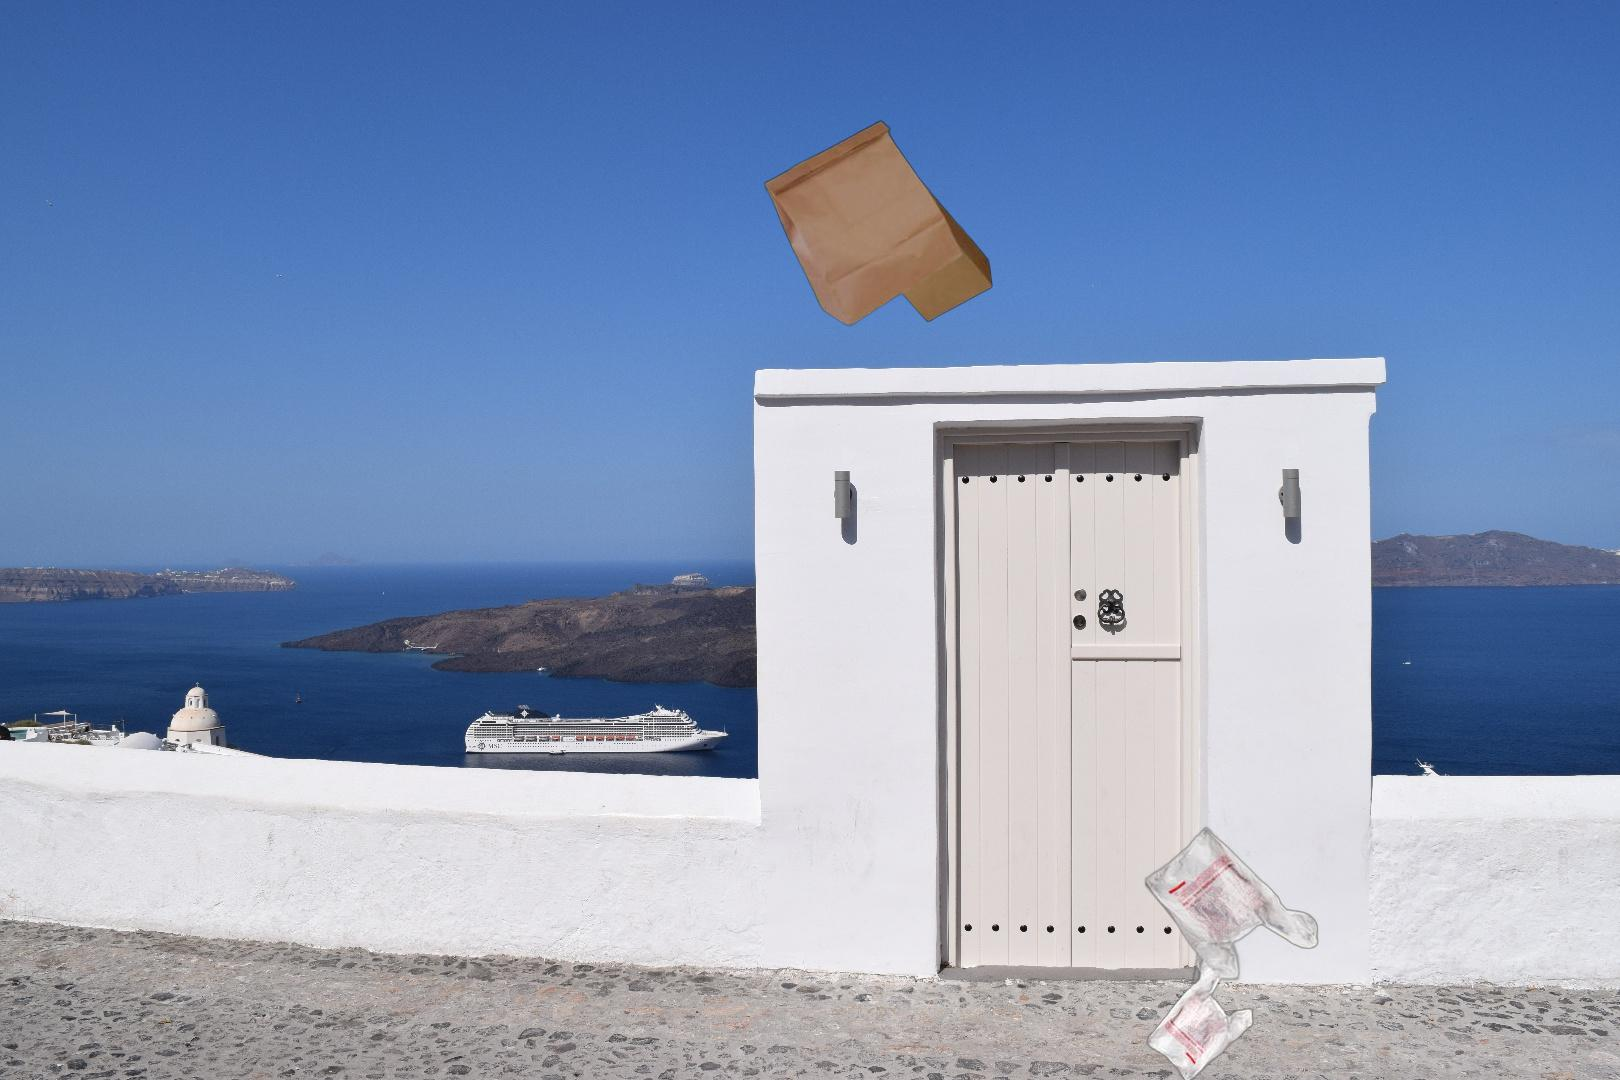paper-bag: (763, 118, 994, 329)
plastic-bag: (1141, 824, 1321, 1080)
